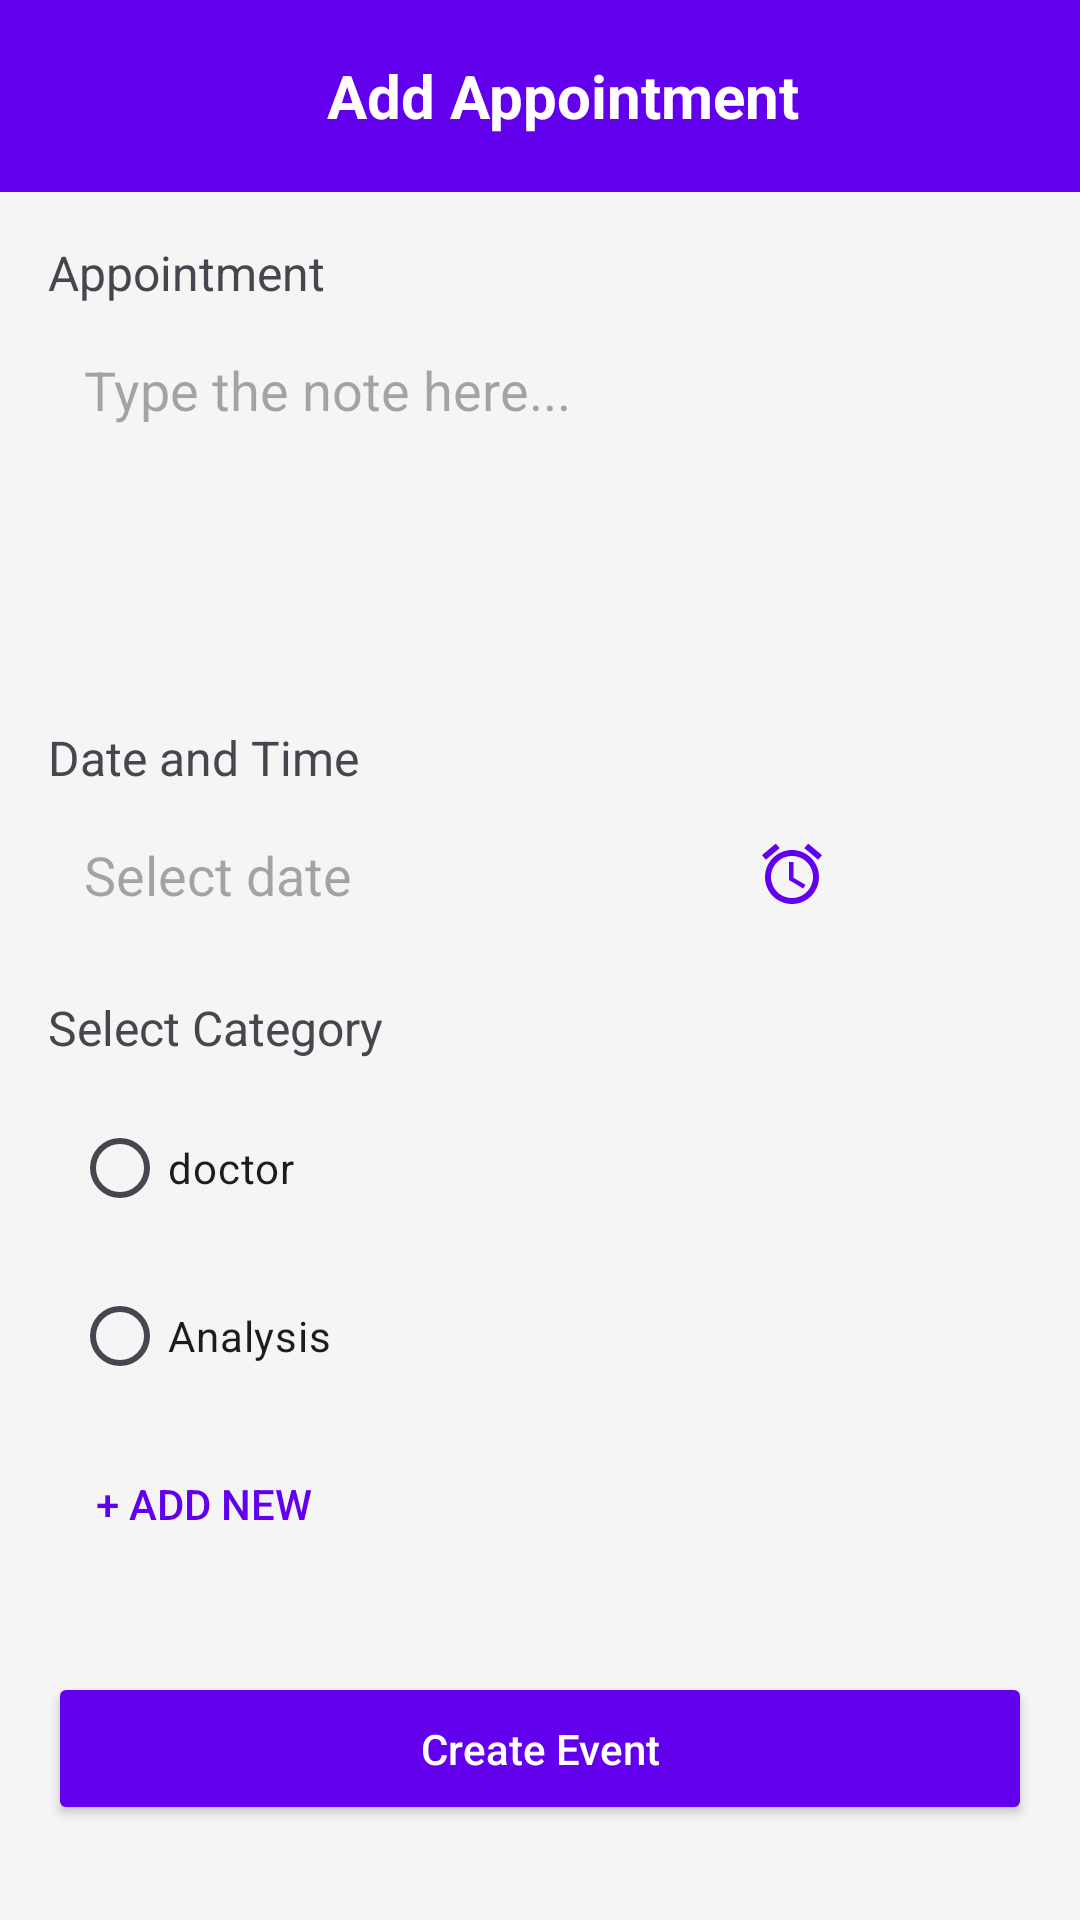

Icon bounding boxes for this 1080 x 1920 phone screenshot, format [x1, y1, x2, y2]:
Set time: [762, 843, 822, 904]
